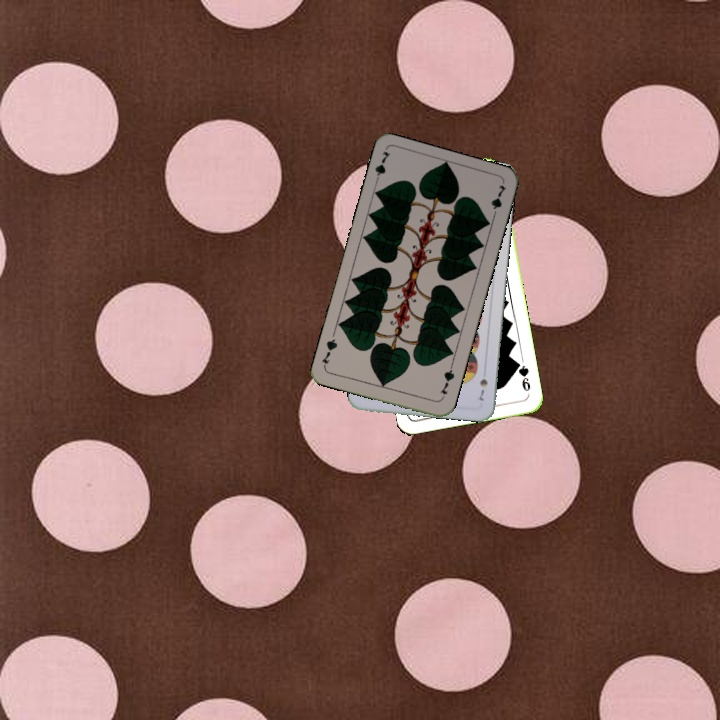G7: (371, 147, 393, 187), (436, 362, 457, 402)
G9: (512, 358, 533, 394)
S7: (473, 375, 490, 405)
